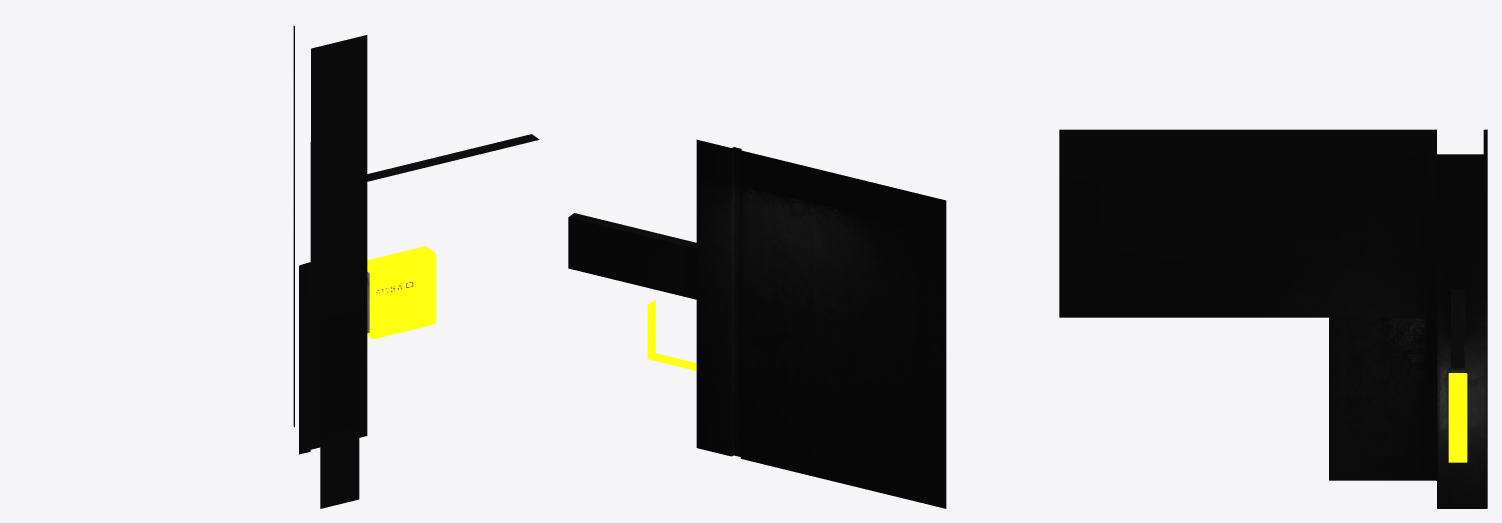
The model's file is xero-2.glb.
3 views of the same model, side by side, from view 1: azimuth 30°, elevation 25°; view 2: azimuth 150°, elevation 25°; view 3: azimuth 270°, elevation 25° (orthographic). The views are drawn at different scales.
Parts seen in each view (by area): view 1: SCENE.001, Cartel.001; view 2: SCENE.001, Cartel.001; view 3: SCENE.001, Cartel.001.
Part boxes in pixels (left/top/right/bottom): SCENE.001: left=293, top=25, right=539, bottom=508; Cartel.001: left=367, top=246, right=436, bottom=339; SCENE.001: left=568, top=139, right=946, bottom=508; Cartel.001: left=647, top=299, right=696, bottom=370; SCENE.001: left=1059, top=129, right=1487, bottom=508; Cartel.001: left=1448, top=373, right=1467, bottom=462.
Bounding box in the file's own units: 3.93 × 3 × 3.27.
Materials: 2 (2 with a texture image).
